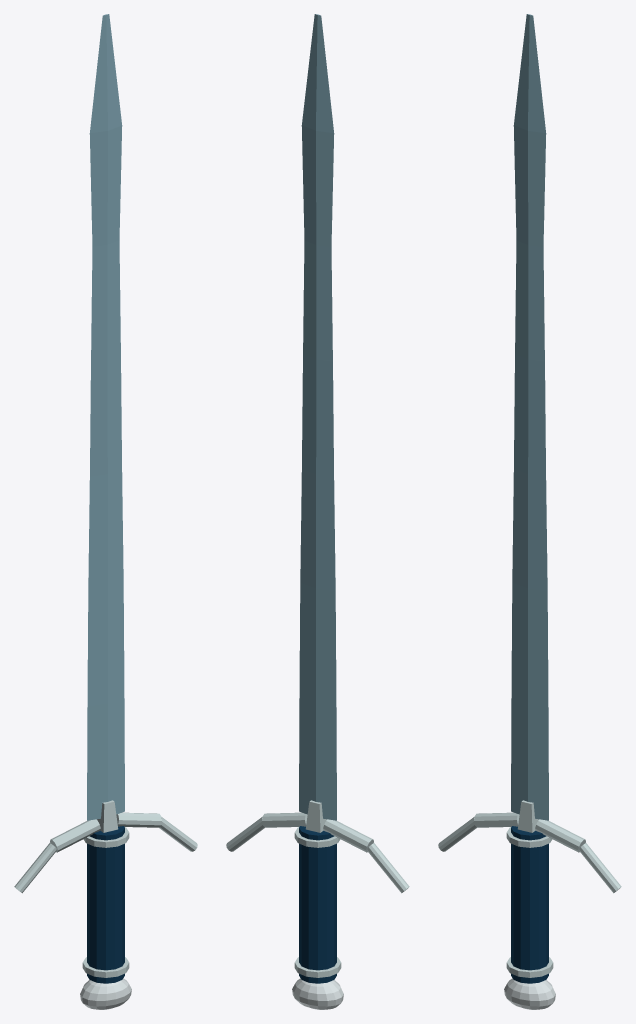
Rendered from lamenth.glb.
3 renders of one model, left to right at view 1: azimuth 30°, elevation 25°; view 2: azimuth 150°, elevation 25°; view 3: azimuth 330°, elevation 25°, orthographic.
Parts seen in each view (by area): view 1: Blade, Grip, Pommel, GuardArm02, GuardArm00, GuardArm03, Guard, GuardArm01, GripCollar01; view 2: Blade, Grip, Pommel, GuardArm02, GuardArm00, GuardArm03, Guard, GuardArm01, GripCollar01; view 3: Blade, Grip, Pommel, GuardArm00, GuardArm02, GuardArm01, Guard, GuardArm03, GripCollar01.
Boxes of the visible parts, box(x1,y1,x2,y2) form: Blade: box(87, 14, 124, 820); Grip: box(87, 826, 124, 983); Pommel: box(80, 978, 131, 1009); GuardArm02: box(50, 819, 100, 852); GuardArm00: box(116, 812, 161, 827); GuardArm03: box(14, 843, 56, 893); Guard: box(97, 800, 118, 832); GuardArm01: box(159, 817, 197, 851); GripCollar01: box(82, 957, 129, 977); Blade: box(299, 14, 336, 820); Grip: box(299, 826, 336, 983); Pommel: box(292, 978, 343, 1009); GuardArm02: box(323, 819, 373, 852); GuardArm00: box(262, 812, 307, 827); GuardArm03: box(367, 843, 409, 893); Guard: box(305, 800, 326, 832); GuardArm01: box(226, 817, 264, 851); GripCollar01: box(294, 957, 341, 977); Blade: box(511, 14, 548, 820); Grip: box(511, 826, 548, 983); Pommel: box(504, 978, 555, 1009); GuardArm00: box(535, 819, 585, 852); GuardArm02: box(474, 812, 519, 827); GuardArm01: box(579, 843, 621, 893); Guard: box(517, 800, 538, 832); GuardArm03: box(438, 817, 476, 851); GripCollar01: box(506, 957, 553, 977).
Size of the model in its own units: 0.1989 by 1.04 by 0.0442.
